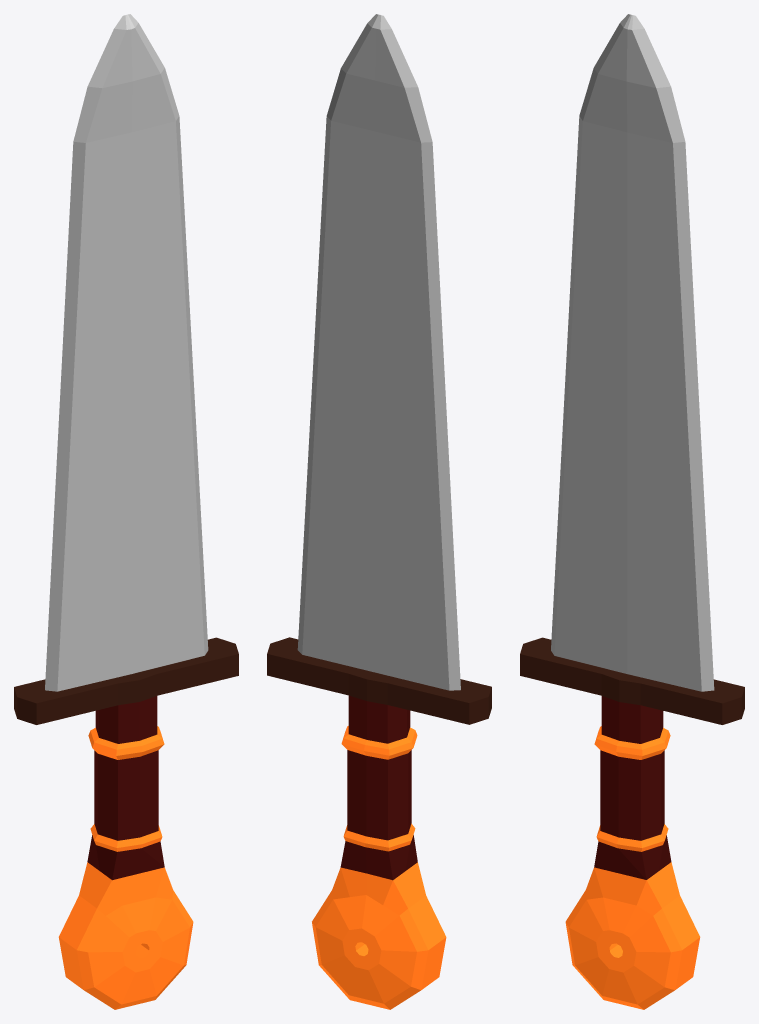
Rendered from short_sword.glb.
3 views of the same model, side by side, from view 1: azimuth 30°, elevation 25°; view 2: azimuth 150°, elevation 25°; view 3: azimuth 330°, elevation 25° (orthographic).
Parts seen in each view (by area): view 1: ShortSword; view 2: ShortSword; view 3: ShortSword.
Boxes of the visible parts, bbox=[...] form: ShortSword: bbox=[14, 14, 238, 1009]; ShortSword: bbox=[267, 14, 491, 1009]; ShortSword: bbox=[520, 14, 744, 1009].
Size of the model in its own units: 0.4301 by 1.85 by 0.1158.
